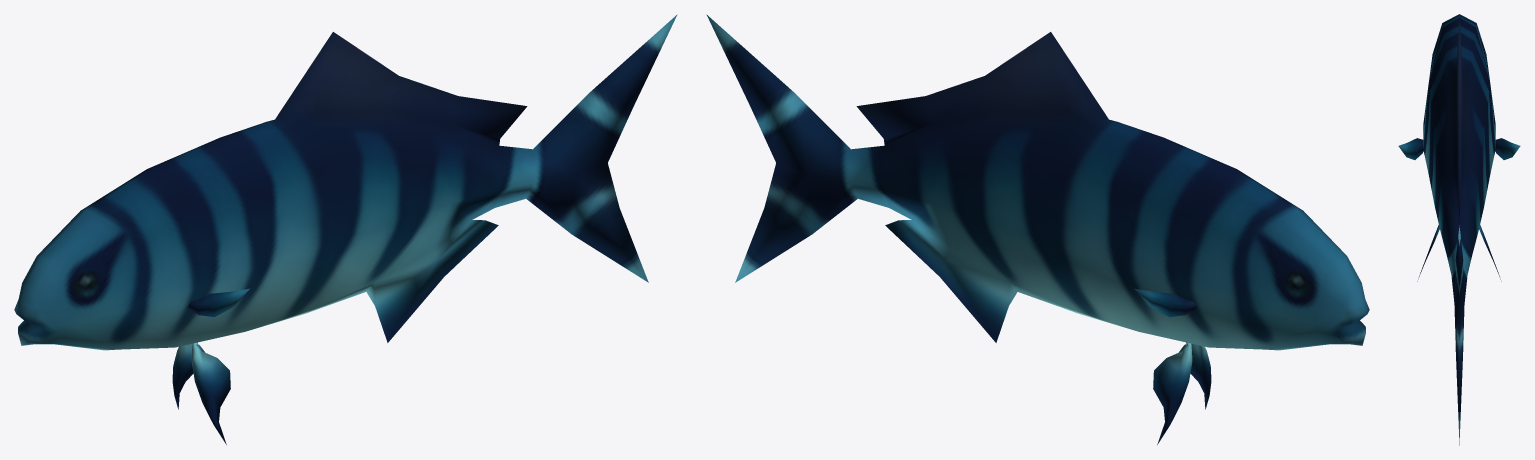
File: f07_linghangyu.FBX
3 views of the same model, side by side, from view 1: azimuth 30°, elevation 25°; view 2: azimuth 150°, elevation 25°; view 3: azimuth 270°, elevation 25° (orthographic). The views are drawn at different scales.
Visible parts, largest first — view 1: f07_linghangyu; view 2: f07_linghangyu; view 3: f07_linghangyu.
Boxes of the visible parts, x1,y1,x2,y2 form: f07_linghangyu: [14, 14, 677, 444]; f07_linghangyu: [706, 14, 1369, 444]; f07_linghangyu: [1398, 14, 1520, 445].
Bounding box in the file's own units: 91.64 × 48.32 × 16.46.
Materials: 1 (1 with a texture image).
